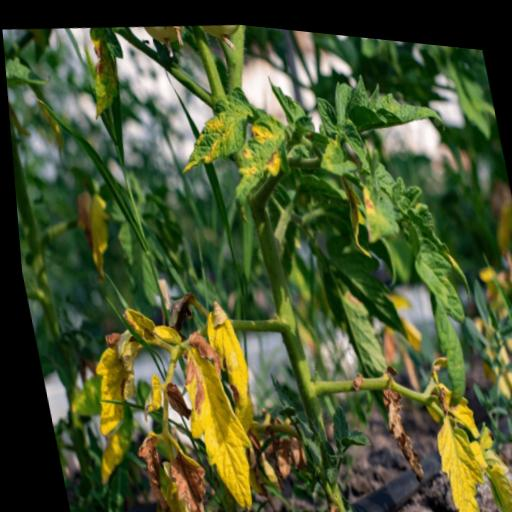Yellow Leaf Curl Virus: (166, 337, 259, 512), (161, 71, 263, 177), (70, 311, 150, 441), (215, 110, 298, 225), (195, 290, 251, 413), (424, 404, 484, 512), (76, 21, 138, 125), (457, 402, 512, 512), (352, 173, 402, 243), (311, 125, 359, 174)
